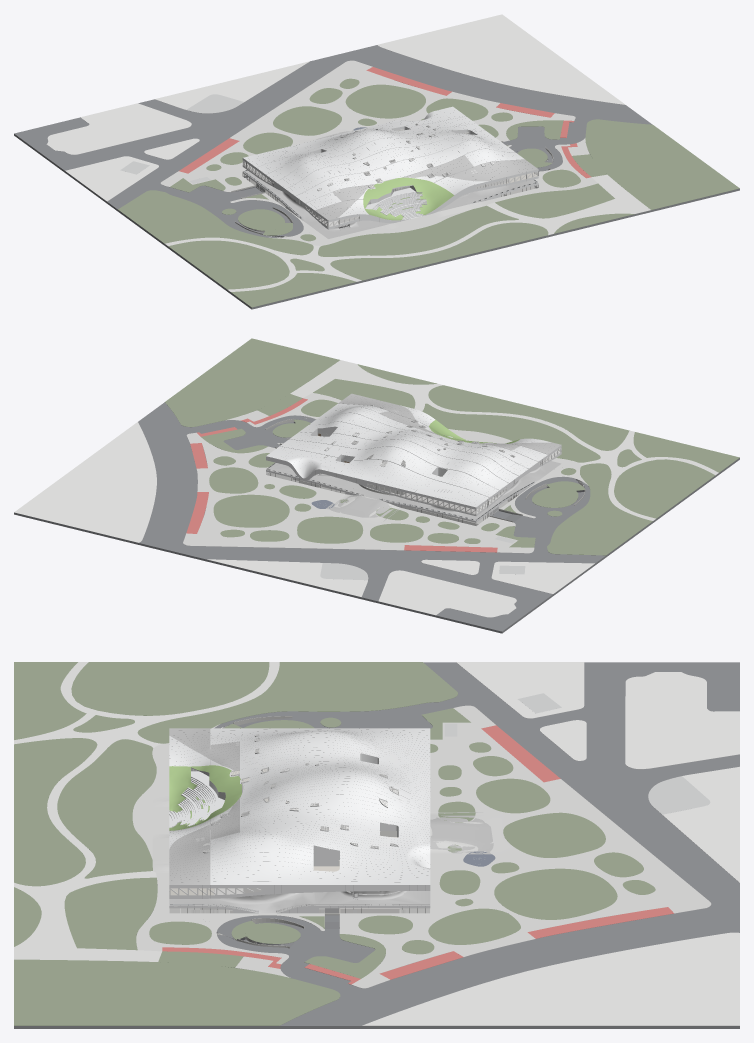
The model's file is nkca_lite.glb.
The picture shows the model from 3 angles, top to bottom: view 1: azimuth 30°, elevation 25°; view 2: azimuth 150°, elevation 25°; view 3: azimuth 270°, elevation 25°; orthographic projection. The views are drawn at different scales.
Visible parts, largest first — view 1: Site_Grass, Site_Road_Base, Site_City_Blocks, Roof_Main, Site_Campus_Paving, Site_Sidewalk, Site_Park_Paving, Roof_South, Site_Moto_Parking, Plaza_Ground, Roof_Main_M16, Site_MRT (+4 smaller); view 2: Site_Grass, Site_Road_Base, Site_City_Blocks, Roof_Main, Site_Campus_Paving, Site_Sidewalk, Plaza_Ground, Site_Moto_Parking, Site_Park_Paving, North_Fascia, Site_MRT, Site_North_Mound_Solid (+4 smaller); view 3: Site_Grass, Site_Road_Base, Site_City_Blocks, Roof_Main, Site_Campus_Paving, Site_Sidewalk, Site_Park_Paving, Site_Moto_Parking, Plaza_Ground, Roof_South, Site_MRT, Roof_Main_M16 (+7 smaller).
Boxes of the visible parts, <box> form: Site_Grass: <box>118,78,739,307</box>; Site_Road_Base: <box>14,45,739,309</box>; Site_City_Blocks: <box>46,14,625,201</box>; Roof_Main: <box>243,106,524,210</box>; Site_Campus_Paving: <box>160,60,575,192</box>; Site_Sidewalk: <box>165,174,650,291</box>; Site_Park_Paving: <box>230,138,597,245</box>; Roof_South: <box>338,176,490,220</box>; Site_Moto_Parking: <box>179,67,591,178</box>; Plaza_Ground: <box>243,126,537,238</box>; Roof_Main_M16: <box>447,159,537,181</box>; Site_MRT: <box>120,94,243,183</box>; Site_Grass: <box>165,338,739,555</box>; Site_Road_Base: <box>14,402,739,633</box>; Site_City_Blocks: <box>14,422,594,617</box>; Roof_Main: <box>266,403,547,507</box>; Site_Campus_Paving: <box>183,432,534,553</box>; Site_Sidewalk: <box>290,360,718,520</box>; Plaza_Ground: <box>267,461,561,520</box>; Site_Moto_Parking: <box>186,398,497,552</box>; Site_Park_Paving: <box>225,392,588,518</box>; North_Fascia: <box>266,456,476,515</box>; Site_MRT: <box>320,536,525,580</box>; Site_North_Mound_Solid: <box>326,495,398,521</box>; Site_Grass: <box>14,662,655,1025</box>; Site_Road_Base: <box>14,662,739,1028</box>; Site_City_Blocks: <box>362,662,739,1025</box>; Roof_Main: <box>210,728,430,884</box>; Site_Campus_Paving: <box>339,705,711,988</box>; Site_Sidewalk: <box>14,662,279,961</box>; Site_Park_Paving: <box>132,724,324,977</box>; Site_Moto_Parking: <box>162,725,673,984</box>; Plaza_Ground: <box>169,891,430,913</box>; Roof_South: <box>169,736,241,848</box>; Site_MRT: <box>444,693,710,814</box>; Roof_Main_M16: <box>169,823,210,884</box>.
Size of the model in its own units: 517 by 46.78 by 436.
